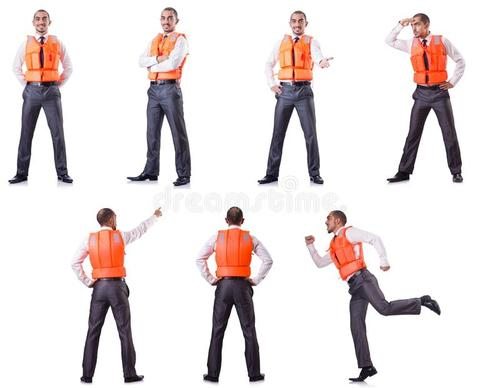reflective_clothes: (84, 223, 130, 287), (408, 31, 454, 91), (325, 221, 371, 281), (210, 223, 255, 284), (147, 28, 187, 88), (22, 30, 59, 92), (279, 30, 317, 88)
